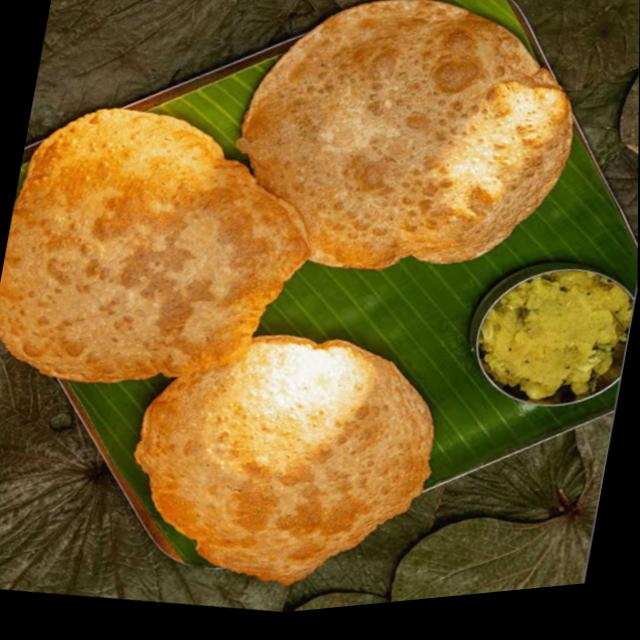CURRY: (476, 265, 634, 401)
POORI: (0, 2, 565, 576)
